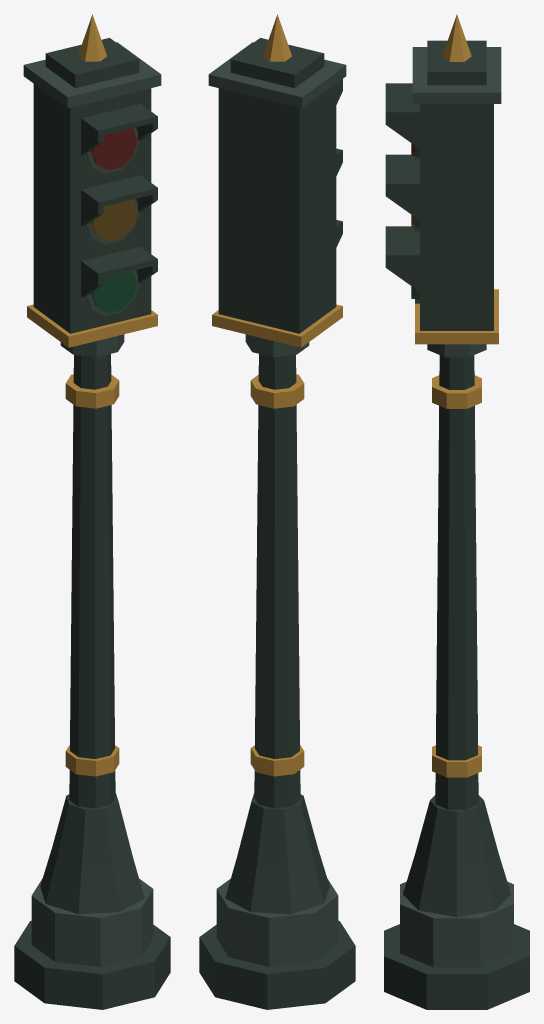
The model's file is signal.glb.
3 renders of one model, left to right at view 1: azimuth 30°, elevation 25°; view 2: azimuth 150°, elevation 25°; view 3: azimuth 270°, elevation 25°, orthographic.
Visible parts, largest first — view 1: signal; view 2: signal; view 3: signal.
Boxes of the visible parts, left/top/right/bottom form: signal: left=14, top=14, right=170, bottom=1009; signal: left=199, top=14, right=355, bottom=1009; signal: left=384, top=14, right=529, bottom=1009.
Bounding box in the file's own units: 0.5913 × 4.32 × 0.5913.
